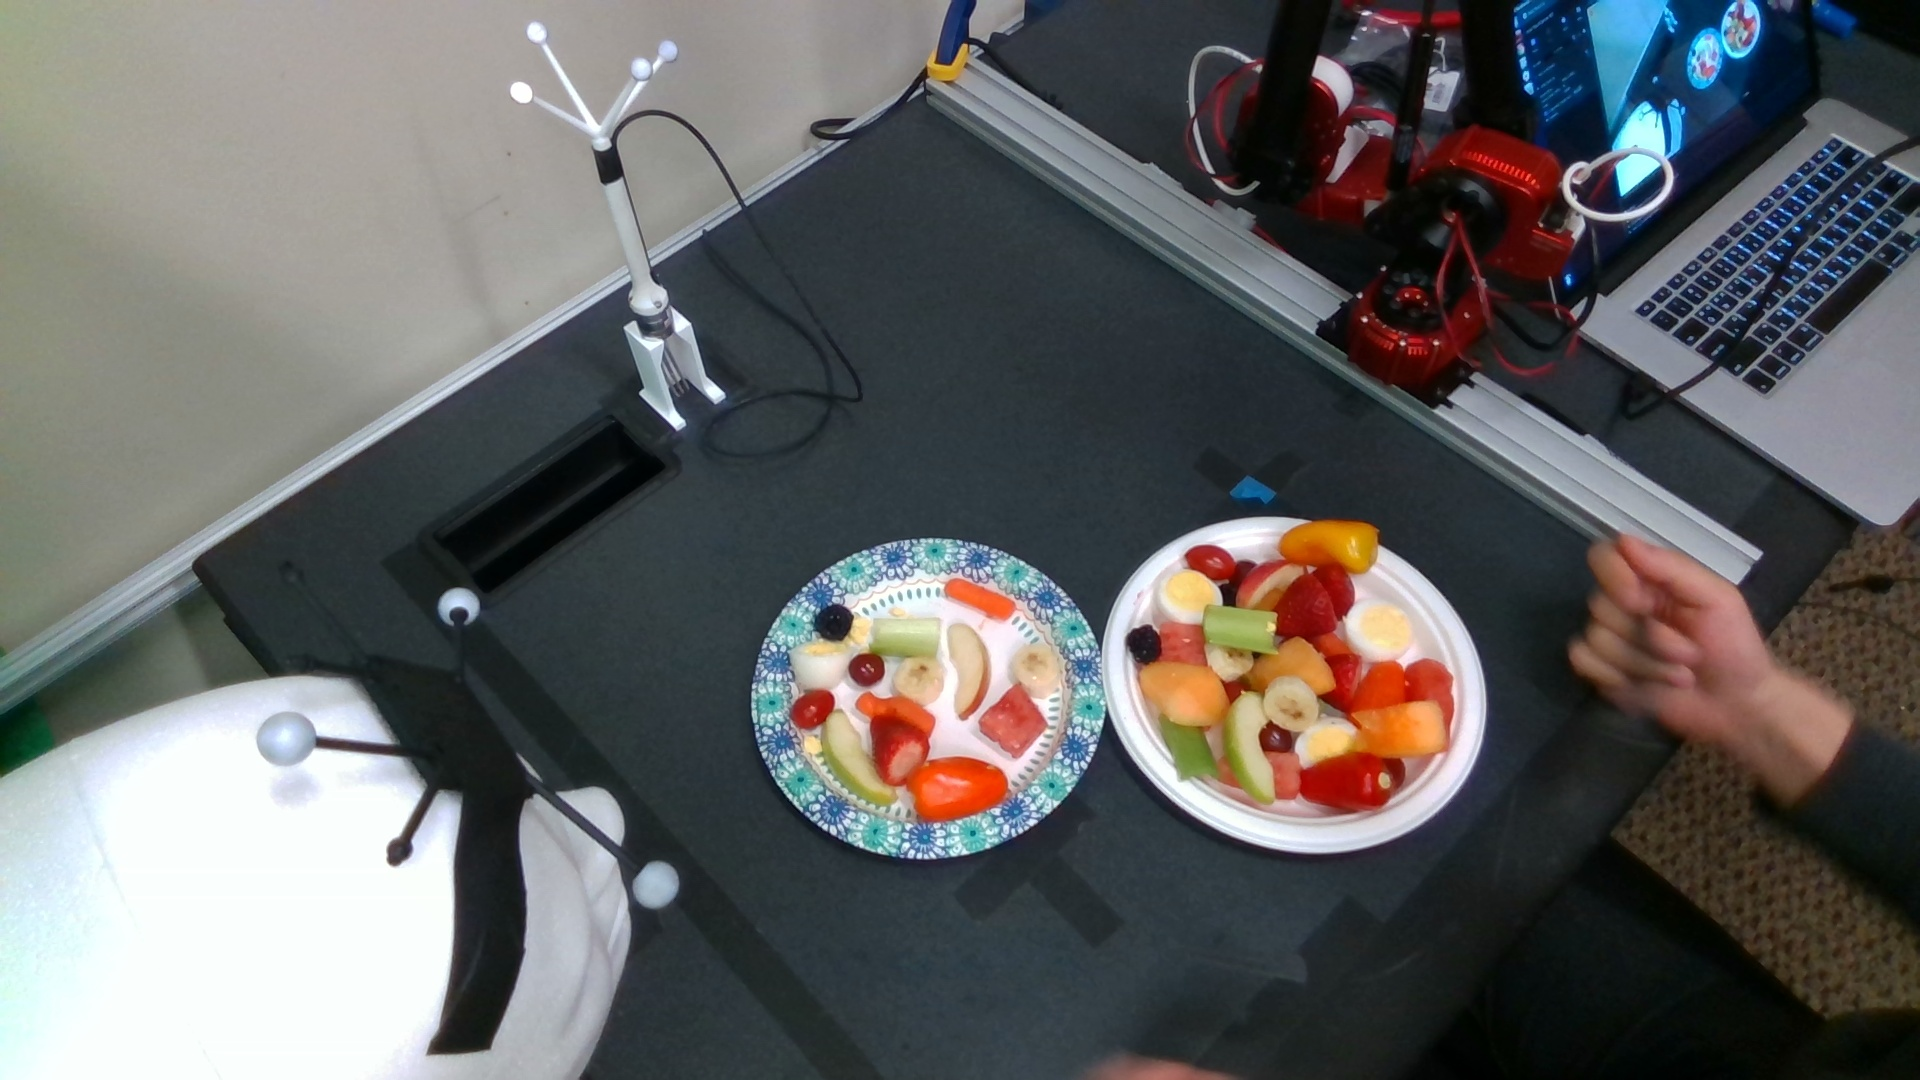apple: (820, 708, 897, 804), (1225, 688, 1273, 804), (945, 622, 990, 720), (1240, 560, 1311, 608)
banana: (1265, 676, 1320, 732), (1013, 646, 1060, 698), (895, 655, 944, 702)
bell_pepper: (909, 757, 1009, 822), (1300, 756, 1394, 814), (1278, 521, 1377, 574)
blackberry: (1125, 625, 1160, 666), (816, 604, 852, 642)
cantalope: (1139, 658, 1230, 723), (1353, 704, 1447, 761), (1250, 638, 1338, 695)
carrot: (856, 692, 938, 735), (943, 578, 1017, 620)
celery: (1160, 712, 1220, 779), (1207, 603, 1280, 655), (872, 613, 938, 657)
cherry_tomato: (1184, 545, 1236, 582), (793, 688, 835, 731)
egg: (1349, 603, 1418, 665), (1163, 567, 1226, 624), (790, 640, 849, 688)
grape_purple: (851, 651, 886, 684), (1233, 559, 1261, 583)
melon: (978, 684, 1048, 758), (1408, 663, 1456, 731), (1160, 621, 1209, 667)
strawberry: (1275, 575, 1342, 640), (872, 715, 931, 787), (1320, 566, 1362, 620), (1323, 658, 1364, 712)
